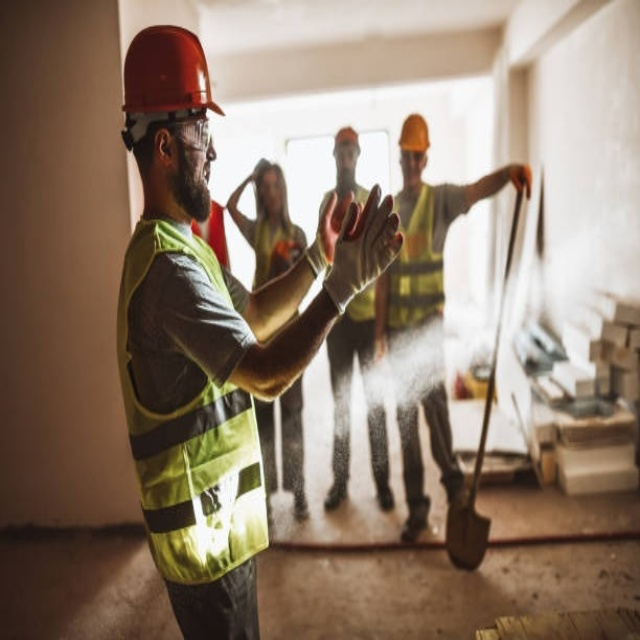Gafas: (155, 113, 215, 151)
Guantes: (296, 179, 410, 315)
Sin_mascara: (191, 160, 213, 202)
